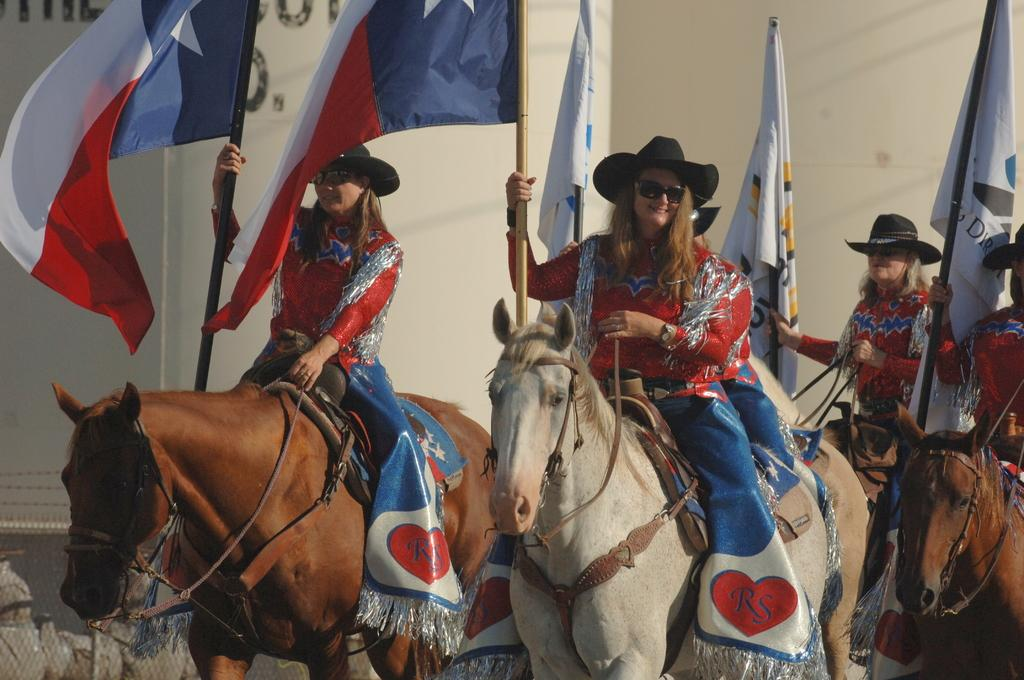Hat: (593, 136, 718, 205), (846, 216, 936, 265), (326, 144, 400, 197), (984, 220, 1023, 271)
